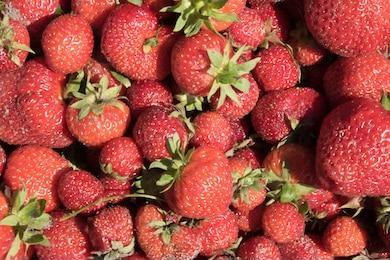Fresa: (312, 92, 390, 202), (163, 141, 239, 224), (166, 25, 241, 103), (2, 142, 77, 214), (61, 85, 134, 153), (130, 102, 195, 173), (57, 164, 112, 218), (87, 203, 136, 259), (259, 197, 308, 246), (97, 135, 147, 183)
